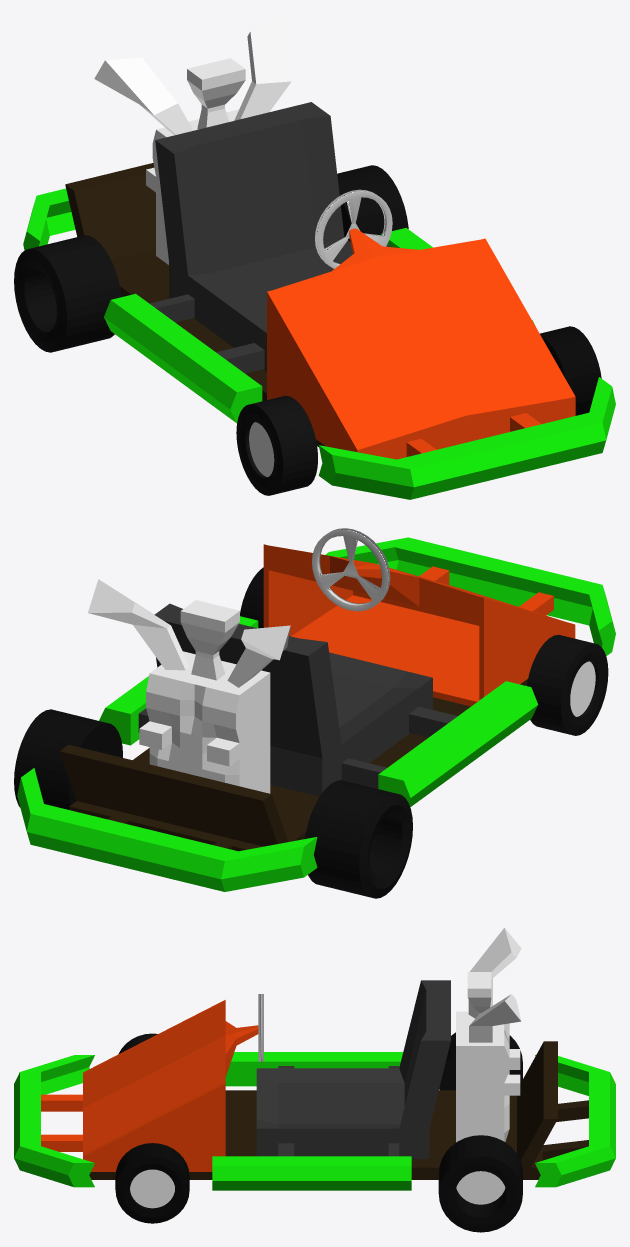
File: mikanKart.fbx
3 renders of one model, top to bottom at view 1: azimuth 30°, elevation 25°; view 2: azimuth 150°, elevation 25°; view 3: azimuth 270°, elevation 25°, orthographic. The views are drawn at different scales.
Visible parts, largest first — view 1: kart, Cylinder.004; view 2: kart, Cylinder.004; view 3: kart.
Boxes of the visible parts, bbox=[...] form: kart: bbox=[14, 14, 615, 499]; Cylinder.004: bbox=[315, 189, 392, 268]; kart: bbox=[14, 537, 615, 898]; Cylinder.004: bbox=[312, 528, 390, 611]; kart: bbox=[14, 927, 615, 1232].
Bounding box in the file's own units: 1441 × 1029 × 2751.
